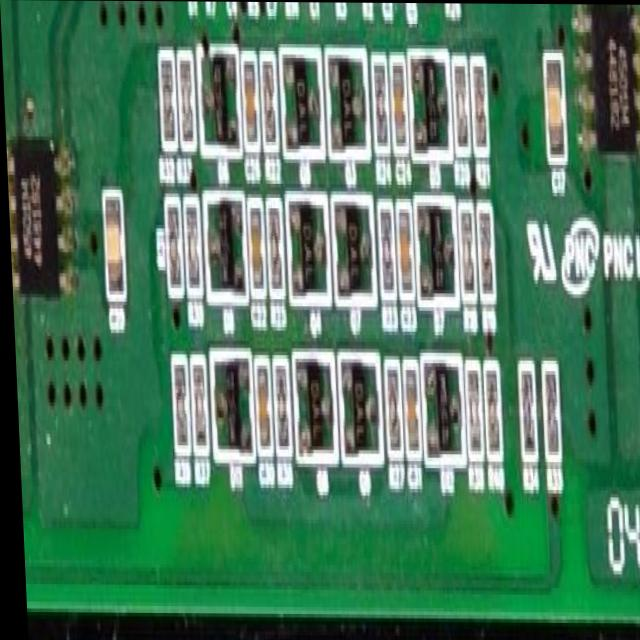IC: (4, 109, 81, 319), (569, 3, 640, 186)
capacitor: (534, 27, 574, 178), (98, 184, 132, 322), (383, 39, 411, 174), (392, 193, 417, 328), (234, 52, 261, 159), (246, 355, 271, 463), (241, 190, 263, 299), (399, 354, 419, 471), (372, 2, 398, 6)
resistor: (264, 344, 291, 477), (512, 350, 539, 479), (457, 354, 484, 478), (363, 47, 390, 170), (150, 38, 177, 158), (479, 347, 504, 475), (161, 355, 188, 473), (376, 340, 401, 467), (369, 196, 395, 313), (451, 175, 474, 307), (174, 46, 199, 162), (535, 359, 560, 475), (157, 193, 183, 302), (260, 200, 285, 313), (465, 46, 488, 167), (256, 45, 280, 159), (447, 42, 468, 164), (472, 202, 495, 311), (182, 197, 204, 306), (187, 356, 207, 466), (330, 2, 354, 13), (442, 3, 465, 10), (357, 2, 377, 9)
transistor: (327, 182, 380, 331), (330, 334, 383, 481), (324, 50, 373, 173), (286, 345, 331, 474), (284, 191, 327, 313), (279, 54, 326, 163)
